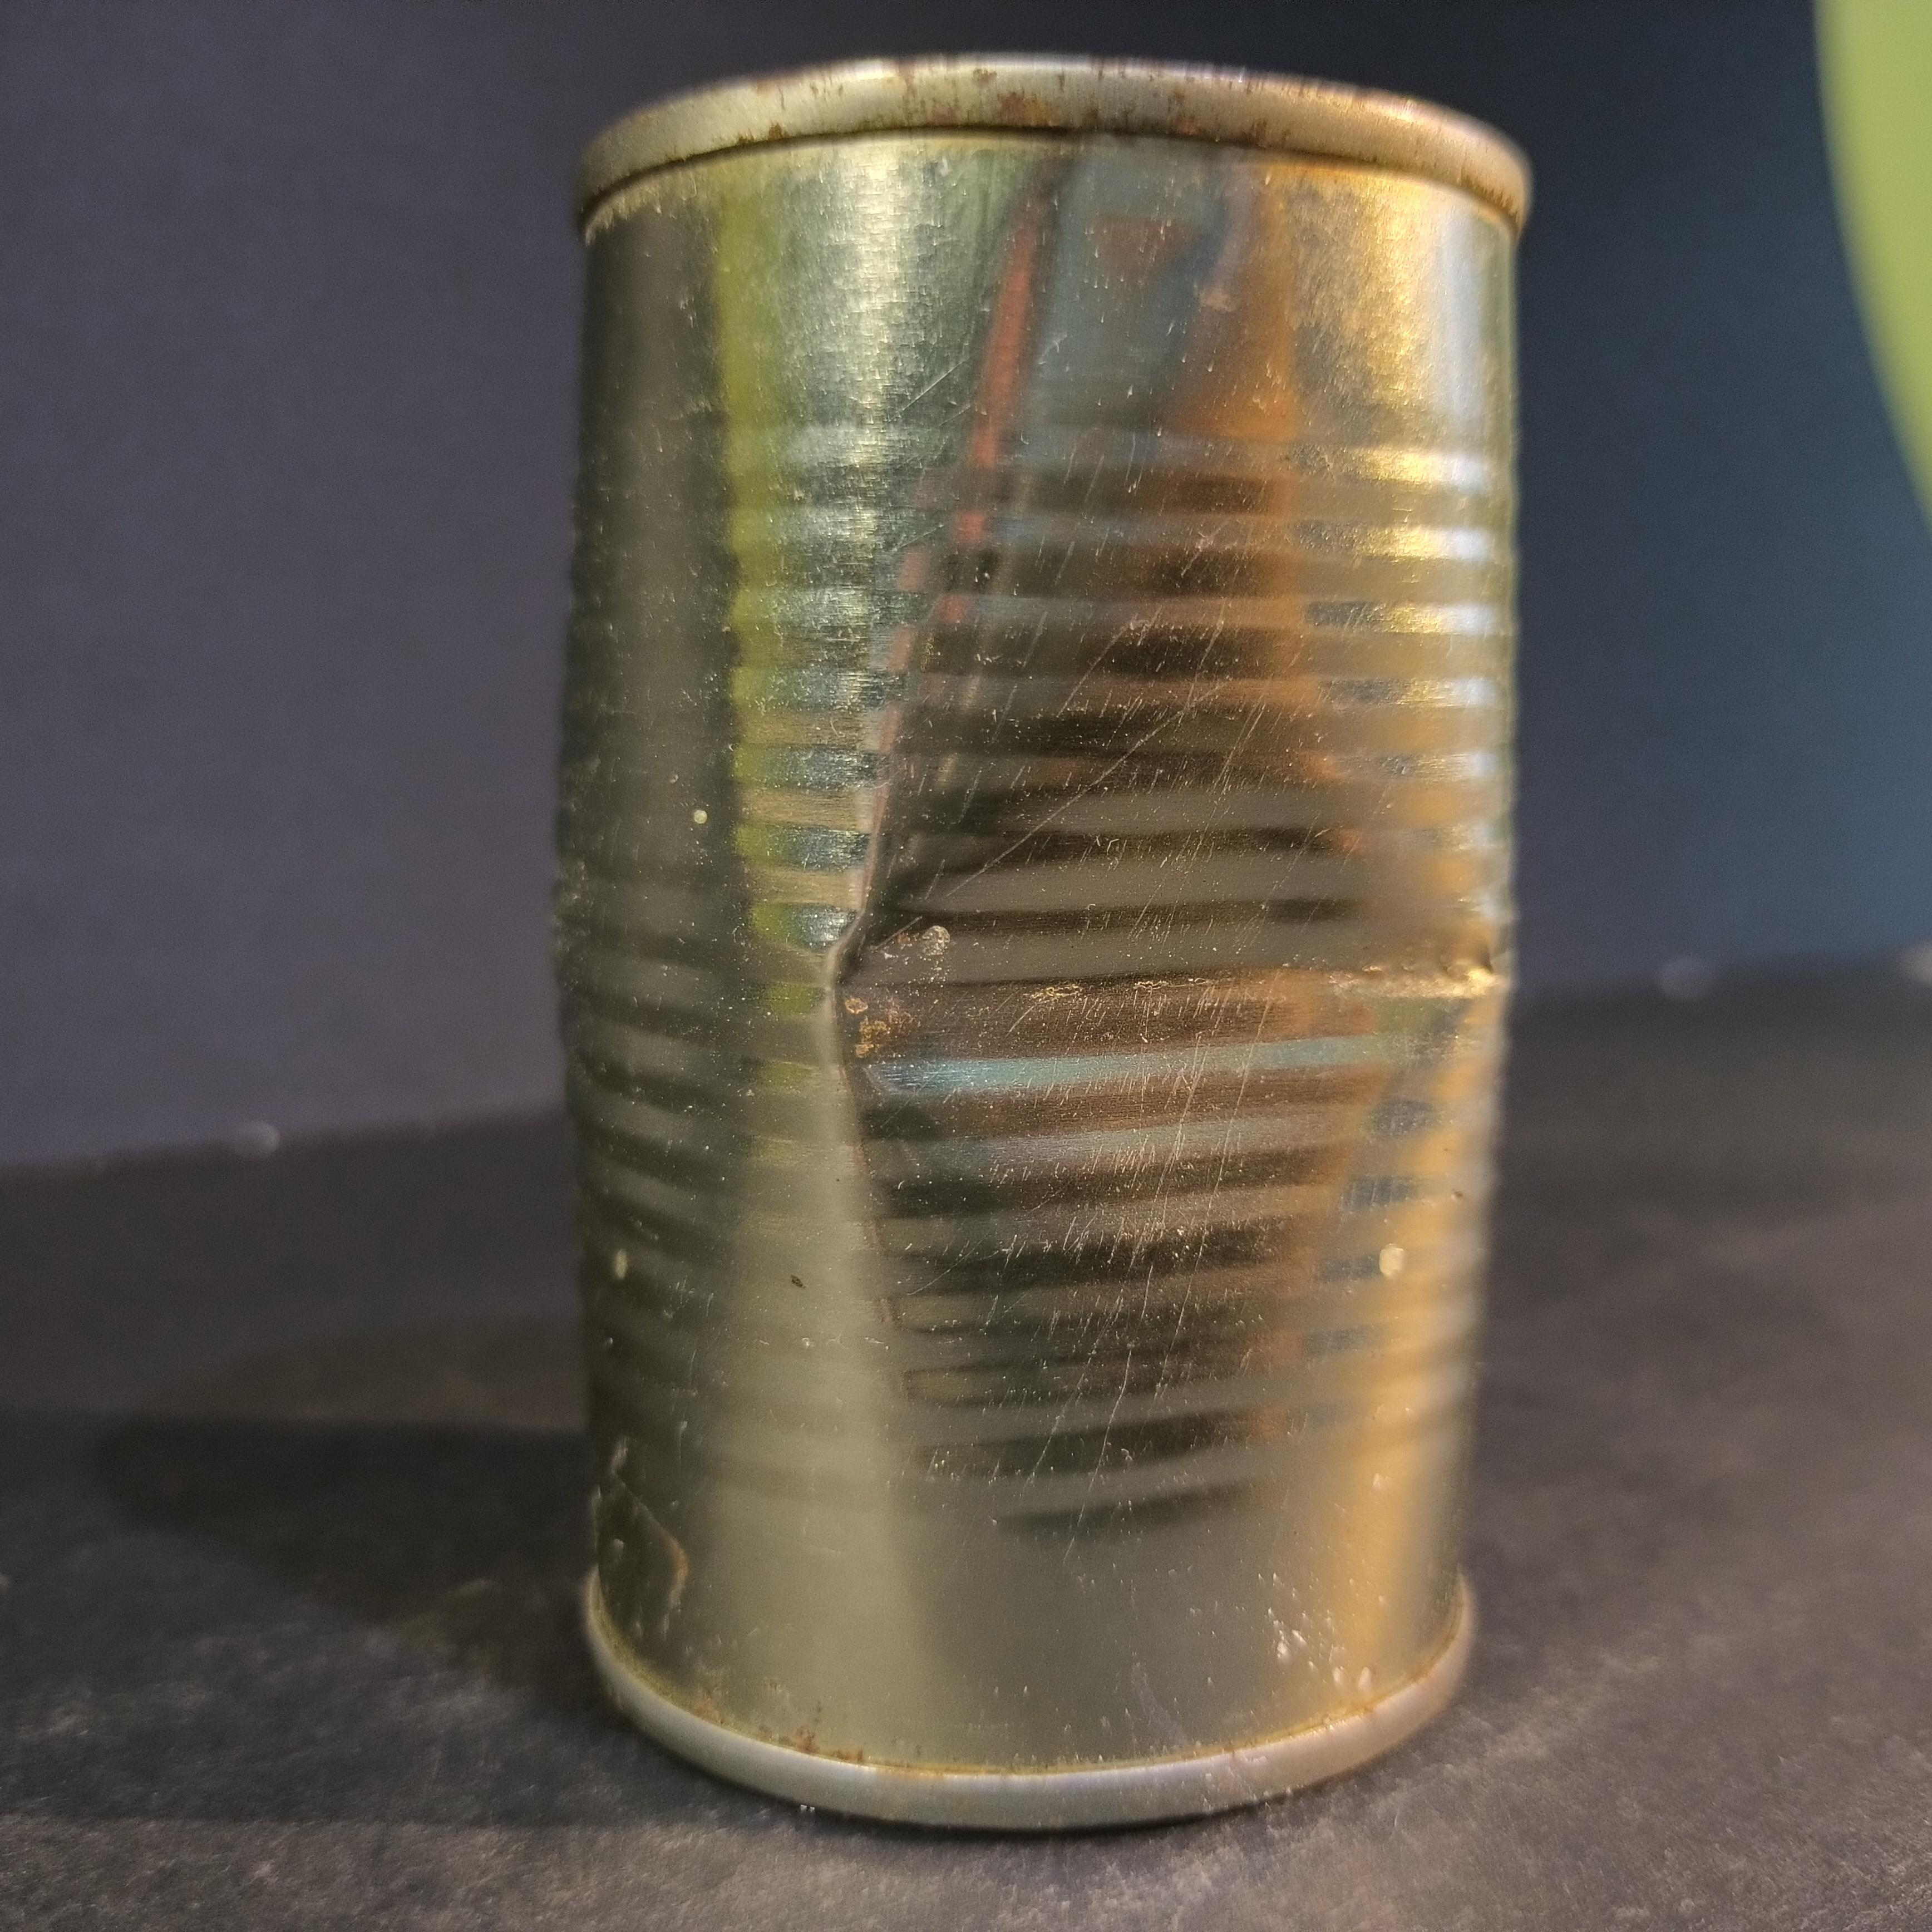Dented: (529, 9, 1589, 1836)
